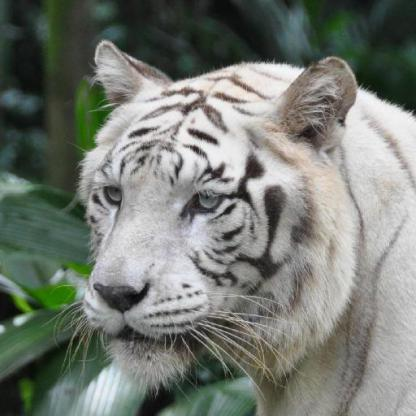tiger: (69, 55, 351, 370)
